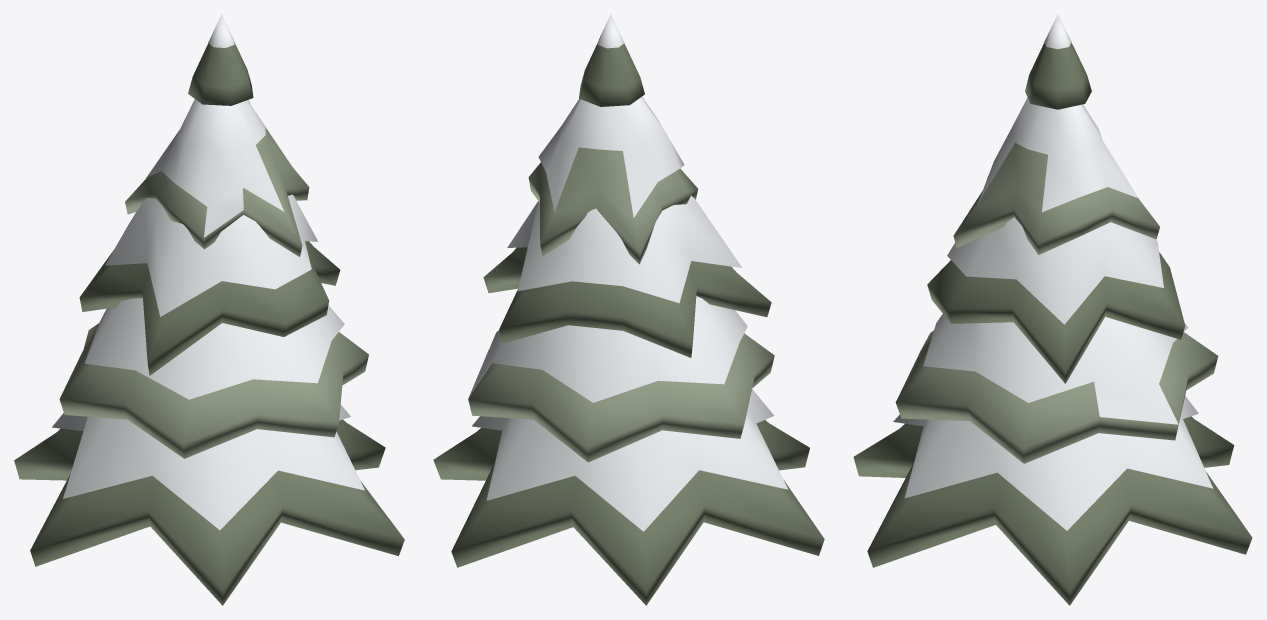
File: tree_pine_snow_b.glb
The picture shows the model from 3 angles, left to right: view 1: azimuth 30°, elevation 25°; view 2: azimuth 150°, elevation 25°; view 3: azimuth 270°, elevation 25°; orthographic projection. The views are drawn at different scales.
Parts seen in each view (by area): view 1: Body; view 2: Body; view 3: Body.
Part boxes in pixels (box(x1,y1,x2,y2)): Body: box(14, 14, 404, 605); Body: box(433, 14, 824, 605); Body: box(853, 14, 1252, 605).
Bounding box in the file's own units: 5.06 × 6.47 × 4.58.
